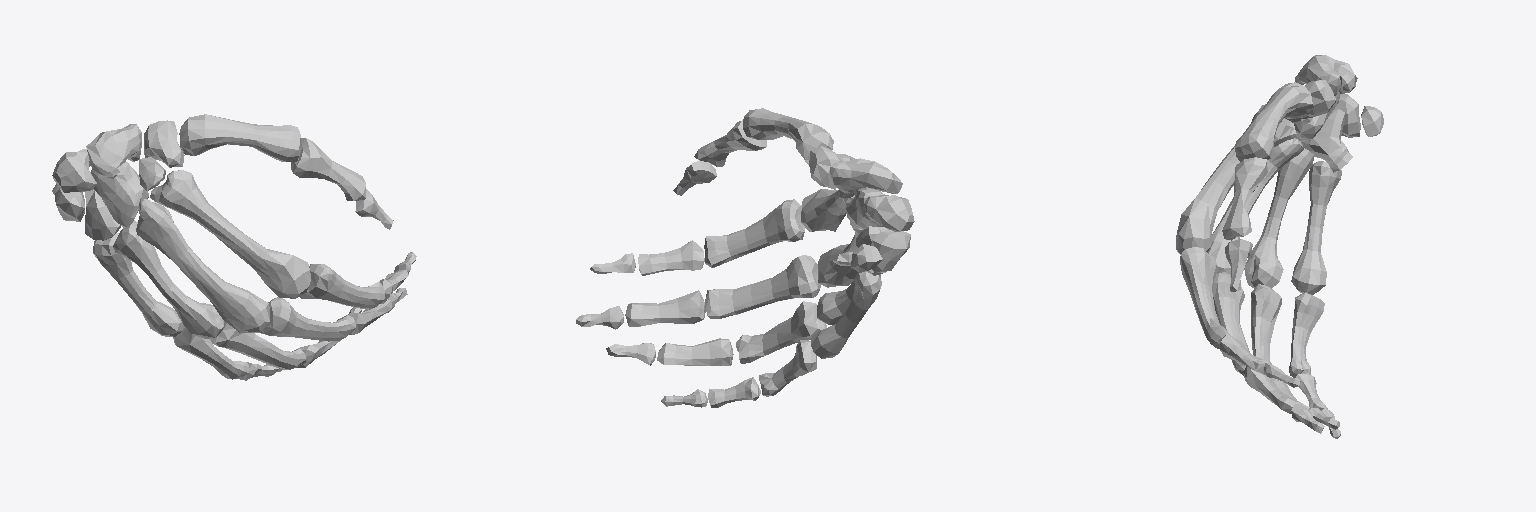
File: R_hand.obj
The picture shows the model from 3 angles: view 1: azimuth 30°, elevation 25°; view 2: azimuth 150°, elevation 25°; view 3: azimuth 270°, elevation 25°; orthographic projection.
Parts seen in each view (by area): view 1: NLMVHM_R_Hand_Bones.001_NLMVHM_Hand_Bones.001; view 2: NLMVHM_R_Hand_Bones.001_NLMVHM_Hand_Bones.001; view 3: NLMVHM_R_Hand_Bones.001_NLMVHM_Hand_Bones.001.
Part boxes in pixels (x1,y1,x2,y2): NLMVHM_R_Hand_Bones.001_NLMVHM_Hand_Bones.001: (52,114,416,380); NLMVHM_R_Hand_Bones.001_NLMVHM_Hand_Bones.001: (576,108,914,407); NLMVHM_R_Hand_Bones.001_NLMVHM_Hand_Bones.001: (1176,55,1383,438).
Bounding box in the file's own units: 14.65 × 12.05 × 7.72.